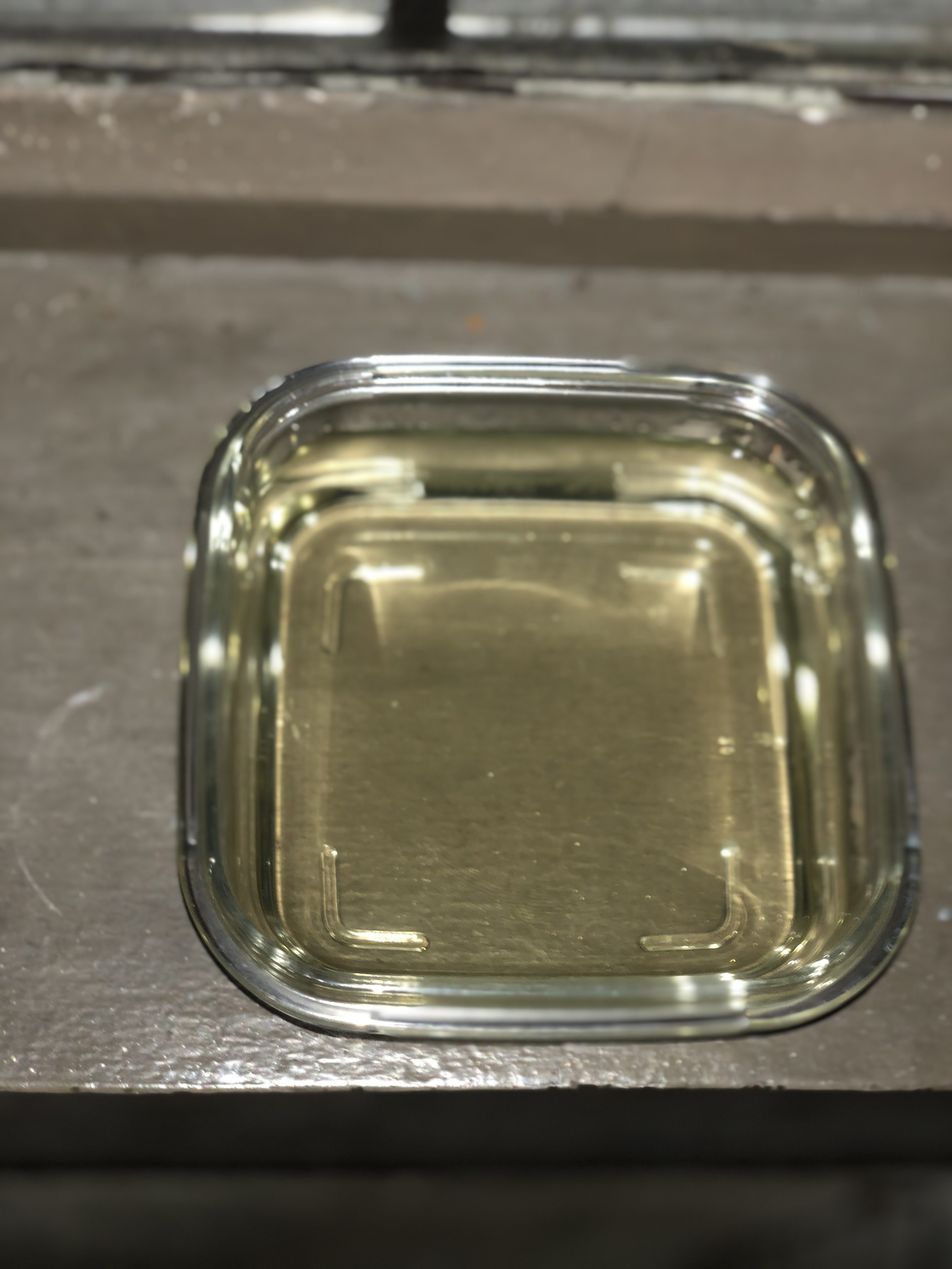reusable: (233, 428, 859, 973)
